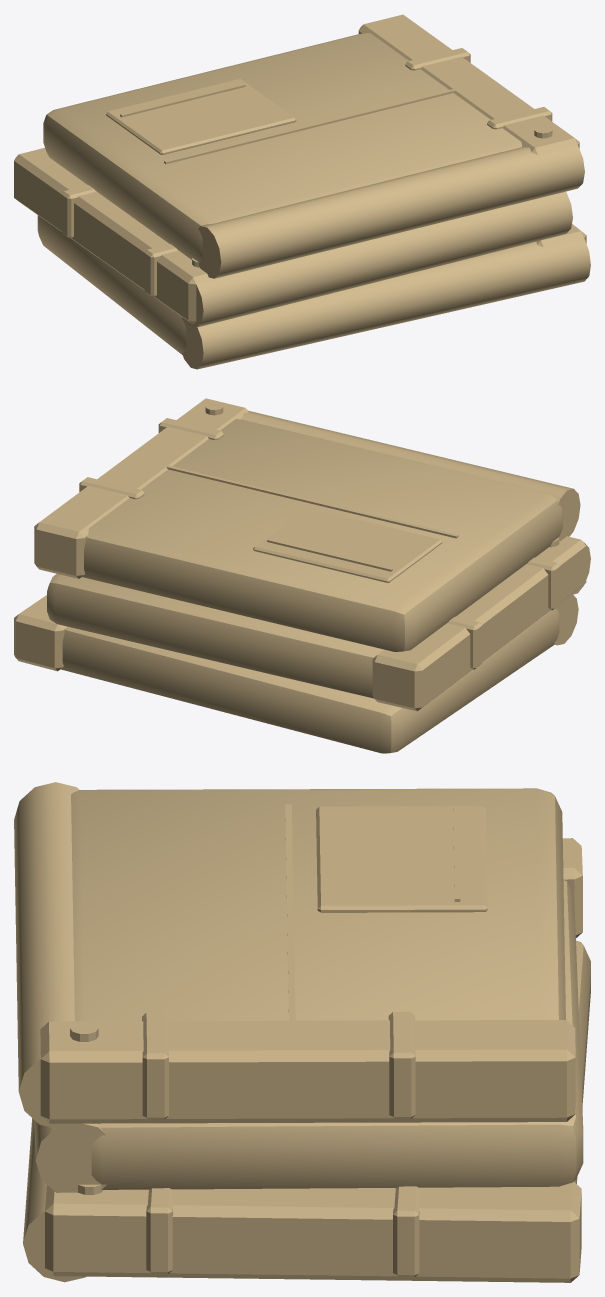
The model's file is Display_Shorts_Folded.fbx.
The picture shows the model from 3 angles, top to bottom: view 1: azimuth 30°, elevation 25°; view 2: azimuth 150°, elevation 25°; view 3: azimuth 270°, elevation 25°; orthographic projection. The views are drawn at different scales.
Parts seen in each view (by area): view 1: Display_Shorts_Folded; view 2: Display_Shorts_Folded; view 3: Display_Shorts_Folded.
Boxes of the visible parts, left/top/right/bottom form: Display_Shorts_Folded: left=14, top=14, right=590, bottom=369; Display_Shorts_Folded: left=14, top=398, right=590, bottom=753; Display_Shorts_Folded: left=14, top=782, right=590, bottom=1282.
Size of the model in its own units: 0.3353 by 0.1172 by 0.2631.
